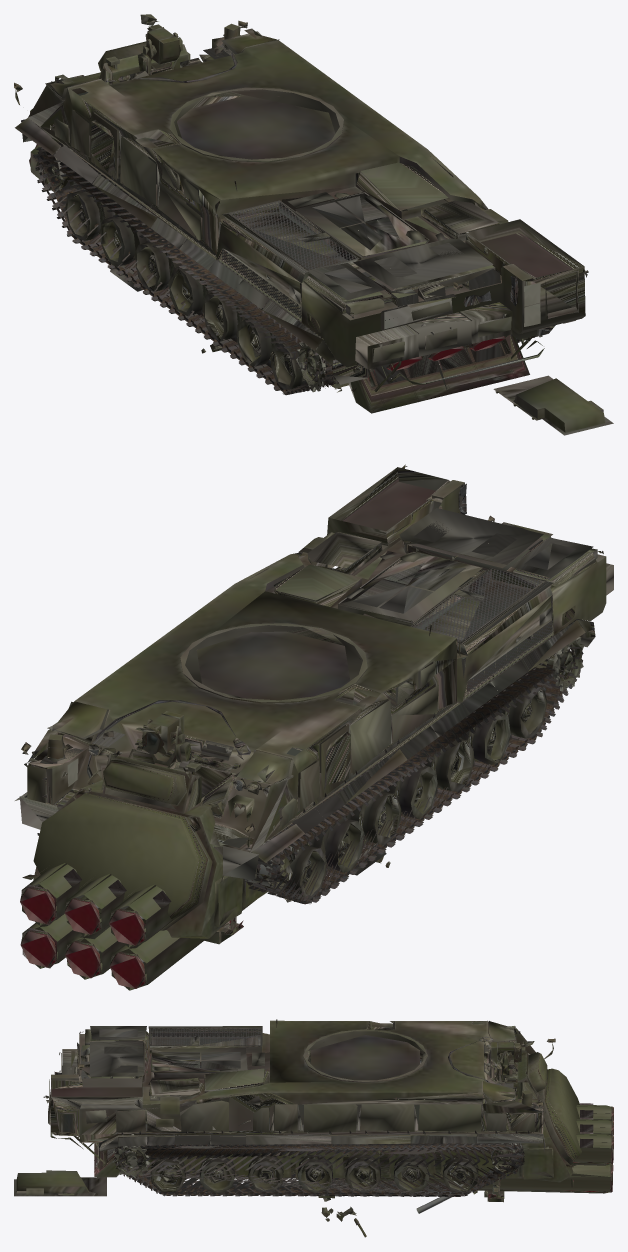
The model's file is bukm3_lo.glb.
3 views of the same model, one above another, from view 1: azimuth 30°, elevation 25°; view 2: azimuth 150°, elevation 25°; view 3: azimuth 270°, elevation 25° (orthographic). The views are drawn at different scales.
Parts seen in each view (by area): view 1: body|280f3542-4c5d-4f87-9ac3-d66802d6dcee, body|65a4cc26-7e32-414e-aa84-481d0084ef53, turret|a915edf9-7524-4c63-9262-feb36bf46fe5, turret|280f3542-4c5d-4f87-9ac3-d66802d6dcee, body|2e6398d3-1f6c-437b-a478-1bda5ea4a58e, turret|e2336fd6-d568-43f9-897c-ca4bce06c9d5, turret|9f4407a1-bfac-4054-9304-38ff6bb0119d; view 2: body|280f3542-4c5d-4f87-9ac3-d66802d6dcee, turret|e2336fd6-d568-43f9-897c-ca4bce06c9d5, body|65a4cc26-7e32-414e-aa84-481d0084ef53, cradle|d40119a4-e1e2-4987-8fd1-39ab56921e07, cradle|9f4407a1-bfac-4054-9304-38ff6bb0119d, body|2e6398d3-1f6c-437b-a478-1bda5ea4a58e; view 3: body|280f3542-4c5d-4f87-9ac3-d66802d6dcee, body|42431a6c-1b14-4cb5-ad1b-d76f064cb8d9, turret|e2336fd6-d568-43f9-897c-ca4bce06c9d5, cradle|d40119a4-e1e2-4987-8fd1-39ab56921e07, turret|280f3542-4c5d-4f87-9ac3-d66802d6dcee, body|2e6398d3-1f6c-437b-a478-1bda5ea4a58e, turret|a915edf9-7524-4c63-9262-feb36bf46fe5, cradle|a915edf9-7524-4c63-9262-feb36bf46fe5.
Part boxes in pixels (<box>): body|280f3542-4c5d-4f87-9ac3-d66802d6dcee: <box>14,20,588,392</box>; body|65a4cc26-7e32-414e-aa84-481d0084ef53: <box>33,141,338,395</box>; turret|a915edf9-7524-4c63-9262-feb36bf46fe5: <box>348,329,544,413</box>; turret|280f3542-4c5d-4f87-9ac3-d66802d6dcee: <box>102,248,613,435</box>; body|2e6398d3-1f6c-437b-a478-1bda5ea4a58e: <box>221,202,356,317</box>; turret|e2336fd6-d568-43f9-897c-ca4bce06c9d5: <box>36,14,348,392</box>; turret|9f4407a1-bfac-4054-9304-38ff6bb0119d: <box>386,336,505,371</box>; body|280f3542-4c5d-4f87-9ac3-d66802d6dcee: <box>15,464,613,899</box>; turret|e2336fd6-d568-43f9-897c-ca4bce06c9d5: <box>22,681,523,938</box>; body|65a4cc26-7e32-414e-aa84-481d0084ef53: <box>243,633,583,904</box>; cradle|d40119a4-e1e2-4987-8fd1-39ab56921e07: <box>21,863,255,990</box>; cradle|9f4407a1-bfac-4054-9304-38ff6bb0119d: <box>20,884,145,988</box>; body|2e6398d3-1f6c-437b-a478-1bda5ea4a58e: <box>412,568,552,694</box>; body|280f3542-4c5d-4f87-9ac3-d66802d6dcee: <box>43,1020,555,1193</box>; body|42431a6c-1b14-4cb5-ad1b-d76f064cb8d9: <box>113,1134,524,1196</box>; turret|e2336fd6-d568-43f9-897c-ca4bce06c9d5: <box>148,1041,581,1182</box>; cradle|d40119a4-e1e2-4987-8fd1-39ab56921e07: <box>332,1103,611,1193</box>; turret|280f3542-4c5d-4f87-9ac3-d66802d6dcee: <box>14,1170,477,1196</box>; body|2e6398d3-1f6c-437b-a478-1bda5ea4a58e: <box>150,1028,260,1045</box>; turret|a915edf9-7524-4c63-9262-feb36bf46fe5: <box>50,1126,120,1177</box>; cradle|a915edf9-7524-4c63-9262-feb36bf46fe5: <box>318,1178,504,1213</box>.
Size of the model in its own units: 3.39 by 3.34 by 10.57.
21 materials, 21 textured.
